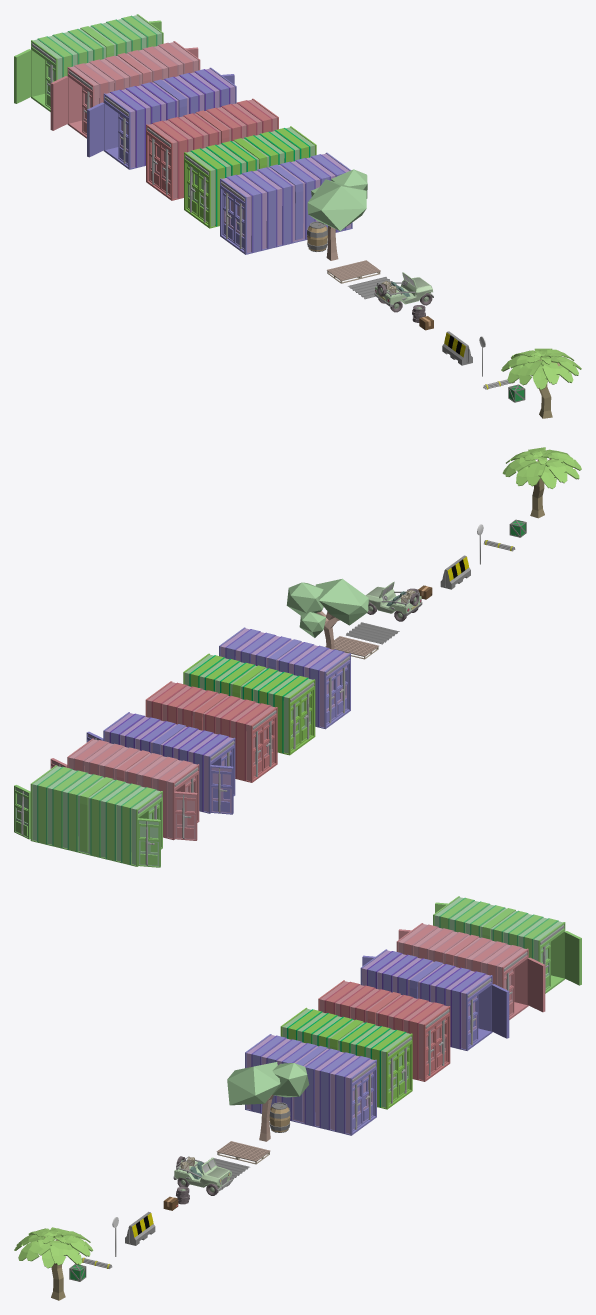
The model's file is assets.fbx.
3 renders of one model, top to bottom at view 1: azimuth 30°, elevation 25°; view 2: azimuth 150°, elevation 25°; view 3: azimuth 330°, elevation 25°, orthographic.
Parts seen in each view (by area): view 1: Containerblauw., CBO, SGO, CRO, ContainerRood.001, ContainerGroen, Boom1, PalmTree, Jeep01, Pallet, ConcreteBarrier, Ton; view 2: SGO, ContainerRood.001, CRO, CBO, ContainerGroen, Containerblauw., Boom1, PalmTree, Jeep01, IjzerenPlaat, Pallet, ConcreteBarrier; view 3: Containerblauw., CBO, SGO, CRO, ContainerRood.001, ContainerGroen, Boom1, PalmTree, Jeep01, Pallet, ConcreteBarrier, Ton.
Boxes of the visible parts, box(x1,y1,x2,y2) form: Containerblauw.: box(220, 152, 352, 254); CBO: box(87, 67, 236, 169); SGO: box(14, 14, 163, 111); CRO: box(50, 41, 200, 138); ContainerRood.001: box(146, 98, 278, 200); ContainerGroen: box(184, 126, 316, 228); Boom1: box(307, 169, 367, 260); PalmTree: box(501, 348, 581, 418); Jeep01: box(374, 272, 433, 312); Pallet: box(327, 260, 380, 283); ConcreteBarrier: box(442, 331, 472, 365); Ton: box(307, 221, 327, 251); SGO: box(14, 765, 162, 867); ContainerRood.001: box(145, 681, 277, 782); CRO: box(50, 738, 199, 840); CBO: box(86, 712, 235, 814); ContainerGroen: box(183, 653, 315, 755); Containerblauw.: box(219, 627, 350, 729); Boom1: box(286, 578, 368, 649); PalmTree: box(502, 447, 581, 518); Jeep01: box(365, 581, 422, 621); IjzerenPlaat: box(346, 622, 399, 644); Pallet: box(325, 636, 378, 659); ConcreteBarrier: box(440, 555, 470, 589); Containerblauw.: box(245, 1034, 376, 1135); CBO: box(360, 949, 509, 1050); SGO: box(433, 896, 581, 993); CRO: box(396, 923, 545, 1019); ContainerRood.001: box(318, 980, 450, 1081); ContainerGroen: box(280, 1007, 412, 1109); Boom1: box(227, 1062, 309, 1141); PalmTree: box(14, 1227, 93, 1300); Jeep01: box(173, 1156, 232, 1195); Pallet: box(216, 1141, 270, 1164); ConcreteBarrier: box(125, 1211, 155, 1245); Ton: box(269, 1102, 290, 1132).
Bounding box in the file's own units: 11.51 × 6.61 × 64.89.
